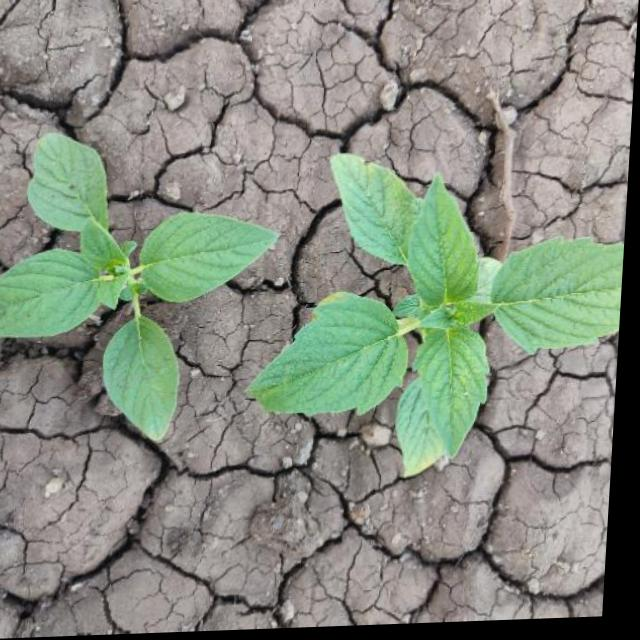crop: (275, 120, 634, 500), (0, 103, 292, 466)
